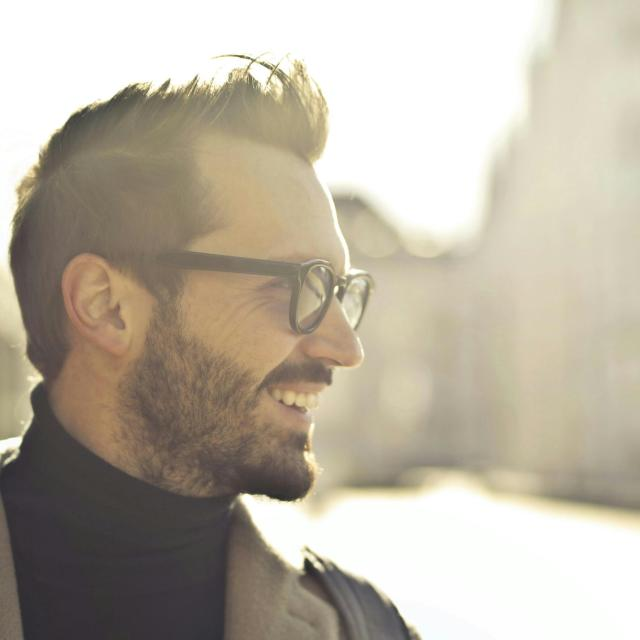front: (201, 218, 353, 475)
